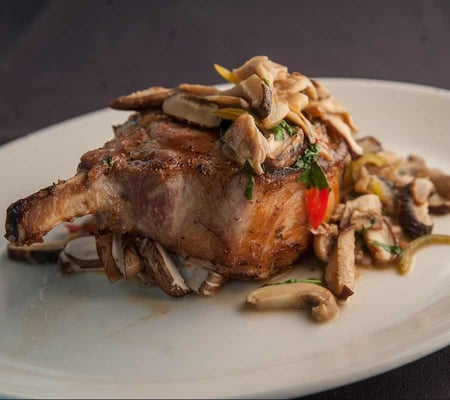soup: (4, 57, 409, 298)
